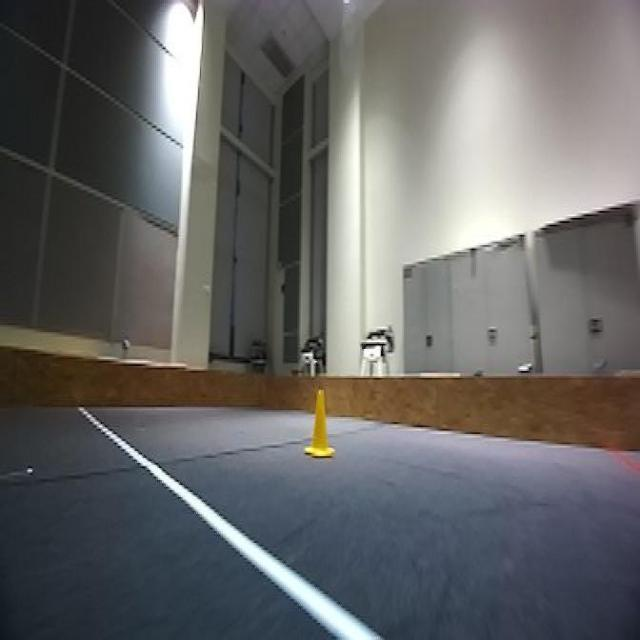frc_cone: (303, 388, 335, 458)
